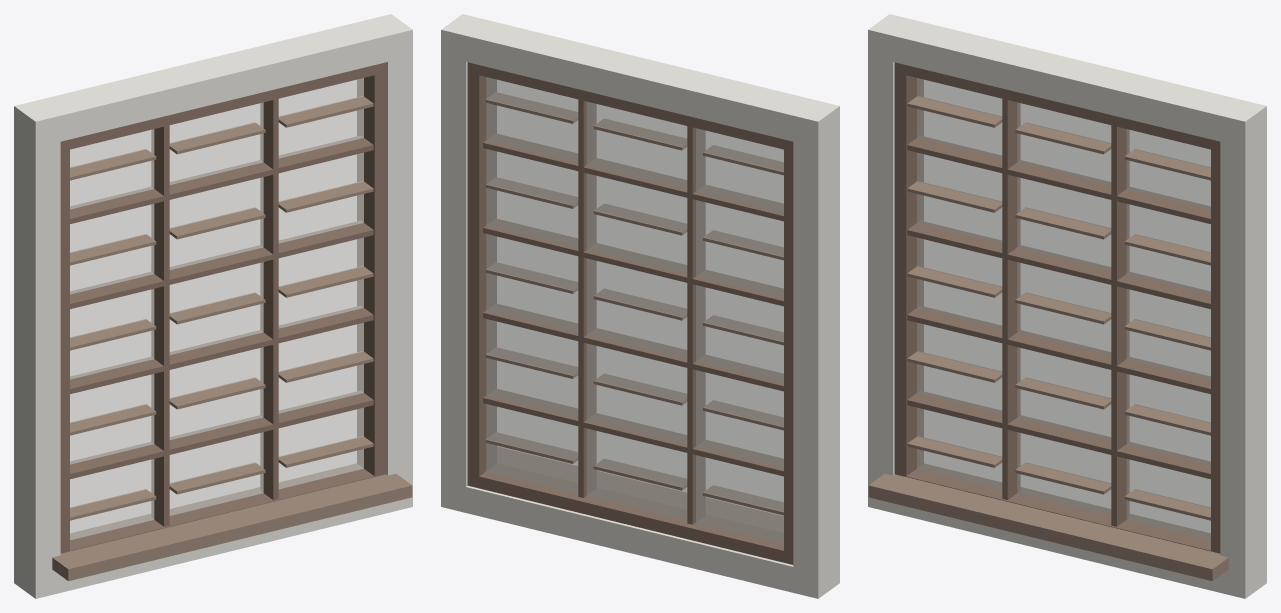
File: lattice-window.glb
The picture shows the model from 3 angles, left to right: view 1: azimuth 30°, elevation 25°; view 2: azimuth 150°, elevation 25°; view 3: azimuth 330°, elevation 25°; orthographic projection.
Parts seen in each view (by area): view 1: rice-paper, plaster-surround-left, plaster-surround-top, plaster-surround-right, inner-sill, window-right-rail, vertical-lattice-1, vertical-lattice-2, horizontal-lattice-3, horizontal-lattice-4, horizontal-lattice-1, horizontal-lattice-2 (+19 smaller); view 2: rice-paper, plaster-surround-left, plaster-surround-top, plaster-surround-right, plaster-surround-bottom, window-right-rail, window-bottom-rail, vertical-lattice-1, vertical-lattice-2, horizontal-lattice-1, horizontal-lattice-2, horizontal-lattice-4 (+19 smaller); view 3: rice-paper, plaster-surround-right, plaster-surround-top, plaster-surround-left, inner-sill, window-left-rail, vertical-lattice-2, vertical-lattice-1, horizontal-lattice-3, horizontal-lattice-2, horizontal-lattice-4, horizontal-lattice-1 (+19 smaller).
Boxes of the visible parts, x1,y1,x2,y2 form: rice-paper: (70,78,363,540); plaster-surround-left: (14,100,60,594); plaster-surround-top: (14,20,387,147); plaster-surround-right: (367,14,412,512); inner-sill: (52,473,412,581); window-right-rail: (357,62,386,476); vertical-lattice-1: (151,125,169,526); vertical-lattice-2: (260,99,278,500); horizontal-lattice-3: (70,221,373,309); horizontal-lattice-4: (70,136,373,223); horizontal-lattice-1: (70,391,373,479); horizontal-lattice-2: (70,306,373,394); rice-paper: (486,77,783,543); plaster-surround-left: (793,100,839,572); plaster-surround-top: (441,20,839,147); plaster-surround-right: (441,14,486,511); plaster-surround-bottom: (441,481,839,598); window-right-rail: (467,63,496,485); window-bottom-rail: (467,463,793,564); vertical-lattice-1: (687,126,705,524); vertical-lattice-2: (578,99,596,497); horizontal-lattice-1: (483,389,783,476); horizontal-lattice-2: (483,304,783,391); horizontal-lattice-4: (483,134,783,221); rice-paper: (917,78,1210,540); plaster-surround-right: (1220,100,1266,572); plaster-surround-top: (868,20,1266,147); plaster-surround-left: (868,14,913,511); inner-sill: (868,473,1228,581); window-left-rail: (894,63,923,476); vertical-lattice-2: (1111,125,1129,526); vertical-lattice-1: (1002,99,1020,500); horizontal-lattice-3: (907,221,1210,309); horizontal-lattice-2: (907,306,1210,394); horizontal-lattice-4: (907,136,1210,223); horizontal-lattice-1: (907,391,1210,479).
Bounding box in the file's own units: 1.82 × 2.2 × 0.315.
